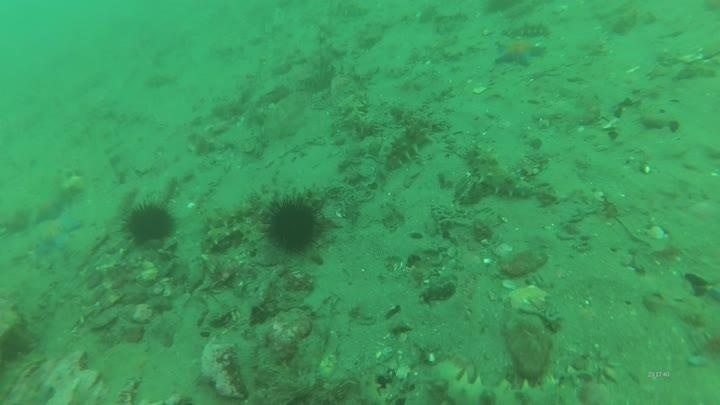echinus: (260, 192, 328, 257), (120, 198, 178, 248)
holothurian: (424, 360, 578, 405), (465, 141, 535, 202), (380, 113, 441, 173), (336, 88, 378, 140), (199, 192, 255, 229), (199, 221, 246, 255), (503, 18, 552, 41)
starfish: (29, 209, 83, 256), (493, 34, 546, 69), (28, 190, 69, 227)
